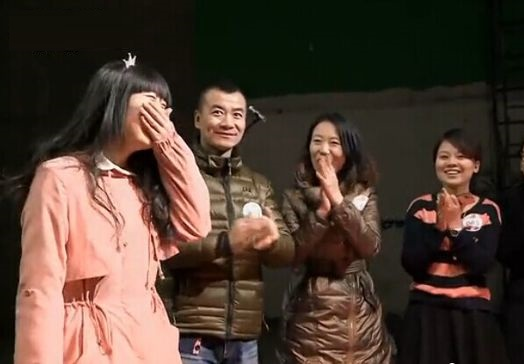face: (127, 85, 170, 147), (204, 93, 243, 147), (310, 123, 345, 174), (436, 141, 473, 184)
